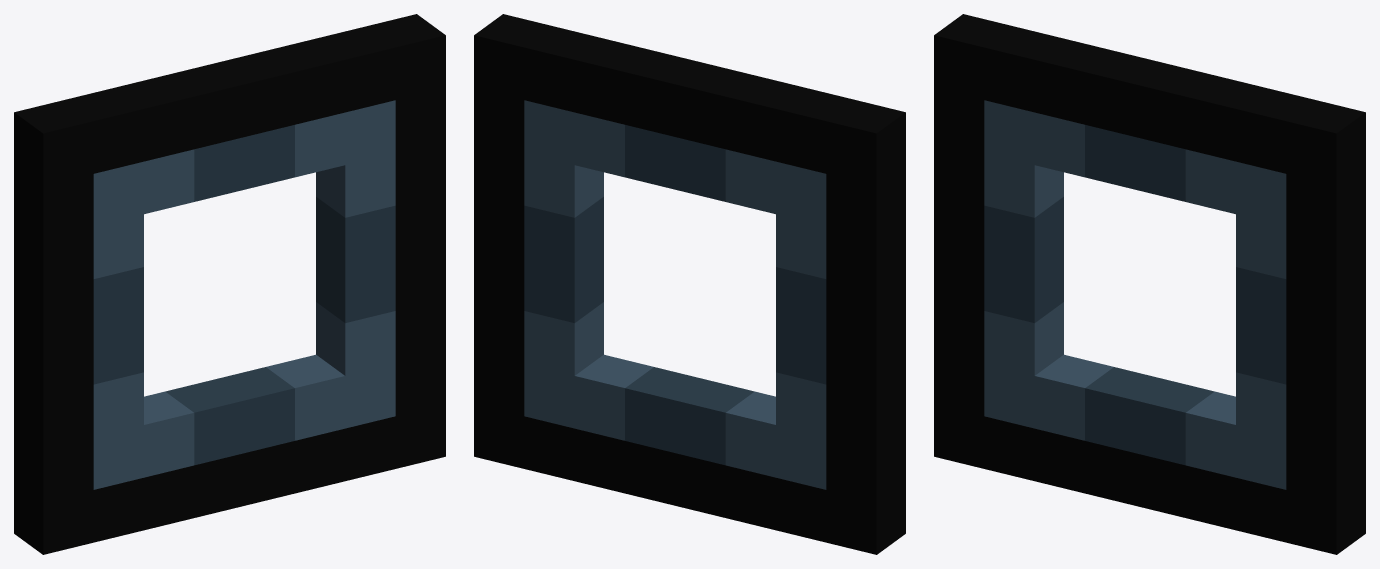
Rendered from Empty Spawner Block.glb.
3 renders of one model, left to right at view 1: azimuth 30°, elevation 25°; view 2: azimuth 150°, elevation 25°; view 3: azimuth 330°, elevation 25°, orthographic.
Parts seen in each view (by area): view 1: generated(Clone); view 2: generated(Clone); view 3: generated(Clone).
Part boxes in pixels (x1=…): generated(Clone): x1=14, y1=14, x2=445, y2=554; generated(Clone): x1=474, y1=14, x2=905, y2=554; generated(Clone): x1=934, y1=14, x2=1365, y2=554.
Size of the model in its own units: 8 by 8 by 1.
1 material, 1 textured.
